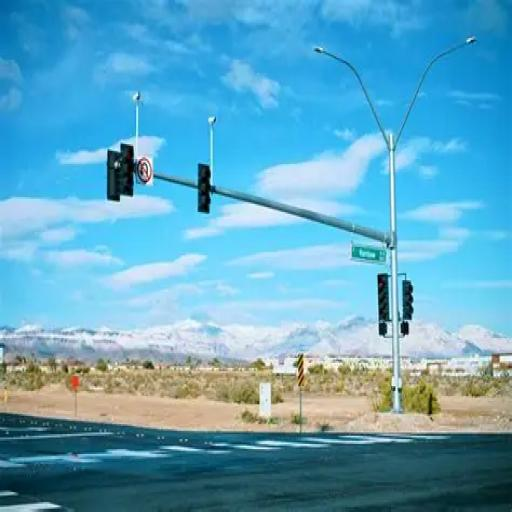traffic light: (106, 149, 121, 201), (120, 142, 133, 196), (196, 162, 210, 212), (377, 272, 389, 321), (402, 278, 412, 320), (296, 351, 303, 386)
